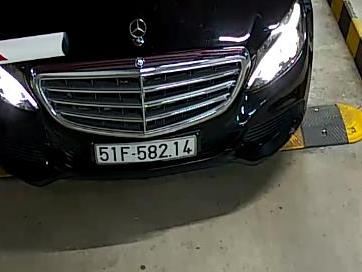car: (94, 135, 198, 165)
